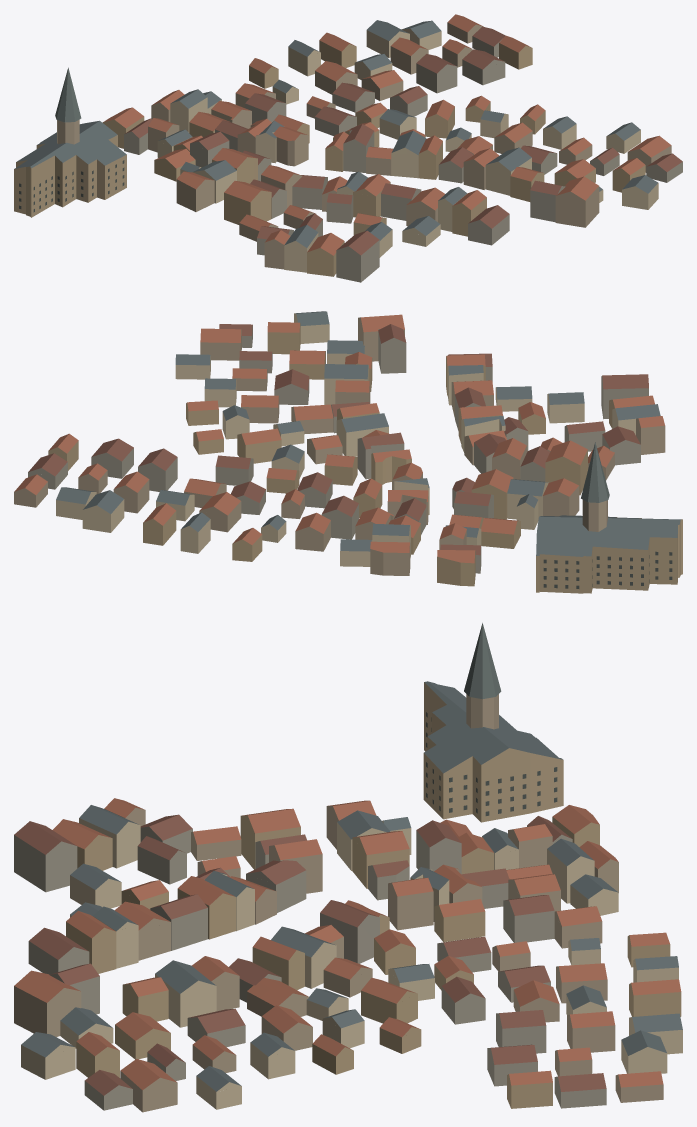
3 views of the same model, one above another, from view 1: azimuth 30°, elevation 25°; view 2: azimuth 150°, elevation 25°; view 3: azimuth 270°, elevation 25° (orthographic). The views are drawn at different scales.
Parts seen in each view (by area): view 1: C_3_1; view 2: C_3_1; view 3: C_3_1.
Boxes of the visible parts, x1,y1,x2,y2 form: C_3_1: (14, 14, 682, 282); C_3_1: (14, 311, 682, 593); C_3_1: (14, 623, 682, 1112).
Bounding box in the file's own units: 240 × 50.99 × 185.
